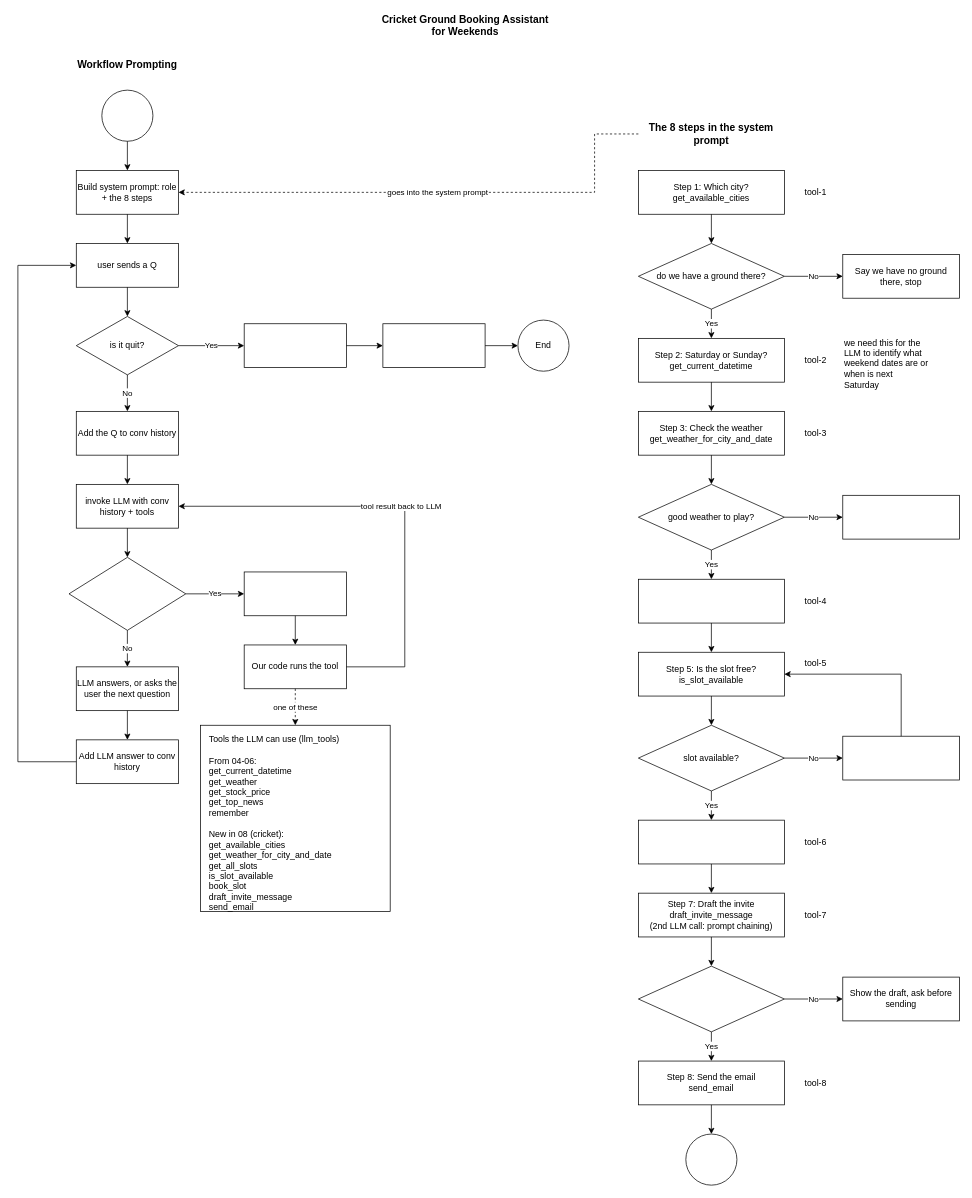
This 972x1198 diagram has some shape labels left out. Each missing label, with the box of its shape:
Ask the user for another slot: (842, 735, 960, 780)
Bye: (685, 1133, 737, 1185)
did the user ask to send it?: (638, 965, 784, 1032)
does this step need a tool?: (68, 557, 186, 630)
LLM asks for a tool: (243, 571, 346, 616)
Say why not, stop: (842, 495, 960, 539)
Start: (101, 89, 153, 141)
Step 4: Show the slots get_all_slots: (638, 579, 784, 623)
Step 6: Book the slot book_slot: (638, 819, 784, 864)
Store chat summary: (382, 323, 485, 368)
Summarize the chat: (243, 323, 346, 368)
